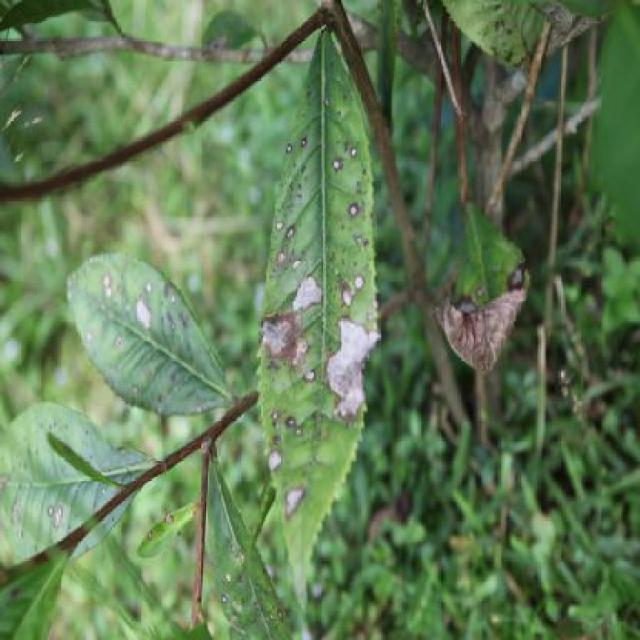Black rot of tea: (256, 22, 386, 596), (63, 255, 242, 440), (429, 235, 537, 380)
